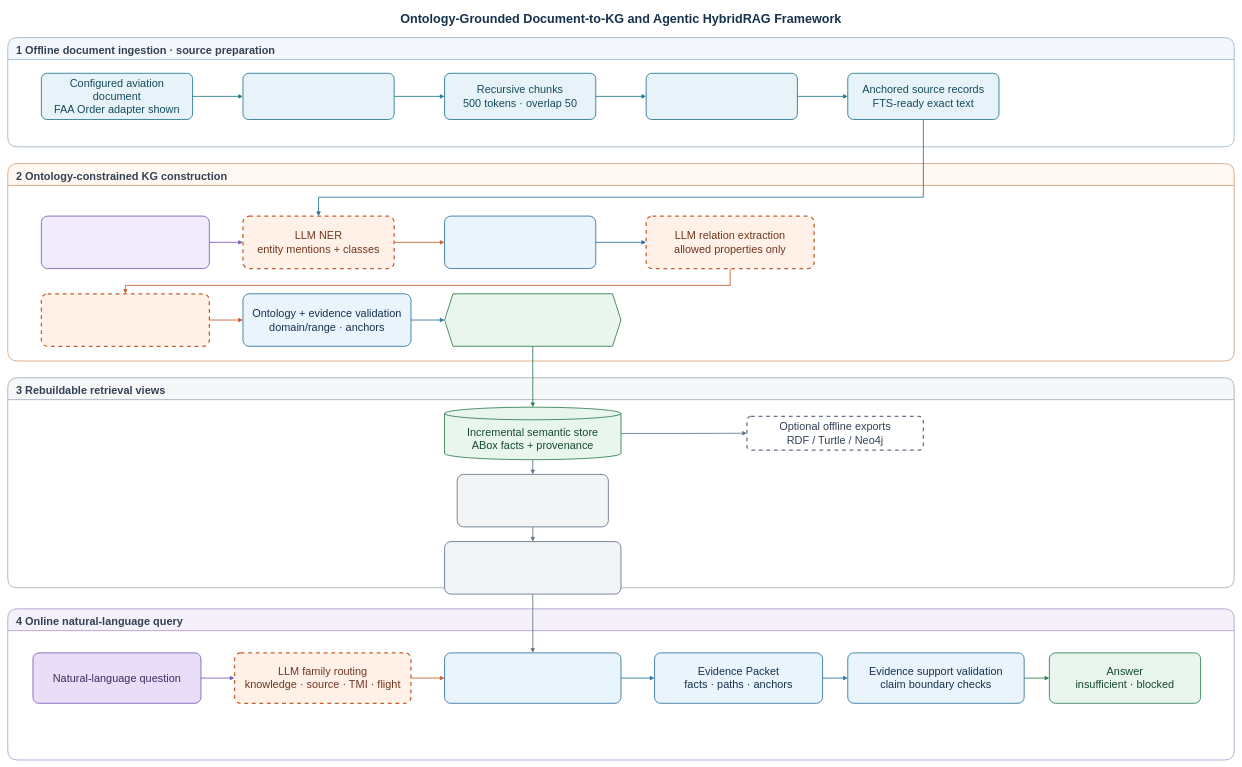
This 1242x767 diagram has some shape labels left out. Each missing label, with the centre of its shape:
Bounded read-only tools entity · graph · exact source: pixel 532 678
Candidate subgraph entities + relations + evidence: pixel 125 320
Entity normalization aliases · stable IDs: pixel 520 242
Evidence anchors page · span · source version: pixel 722 96
Formal Publication Kernel incremental accepted facts: pixel 532 319
Ontology + application profile compact task schema: pixel 125 242
Reindex rebuild projections: pixel 533 500
Runtime retrieval views source FTS · knowledge vectors: pixel 532 567
Structured reading pages · paragraphs: pixel 318 96
